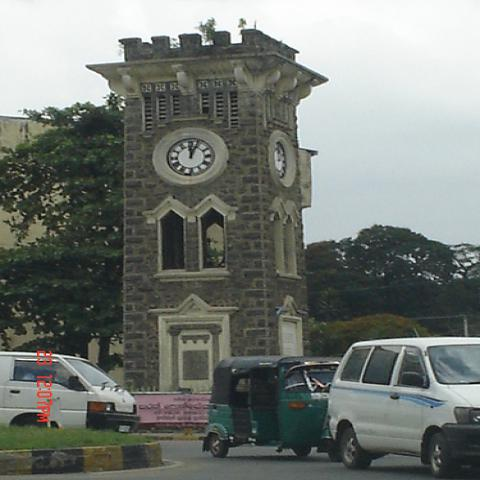car: (326, 333, 479, 478), (201, 353, 347, 461), (0, 350, 143, 432)
truck: (320, 335, 479, 479)
